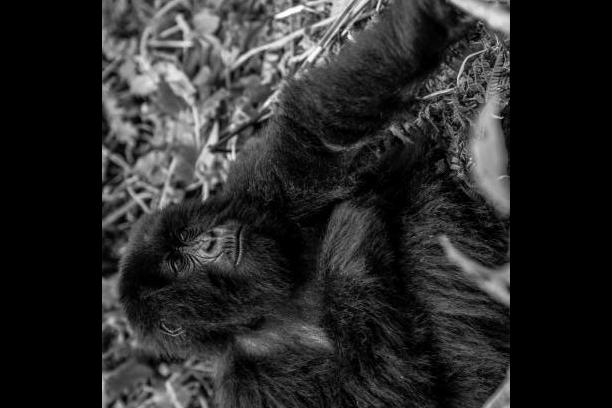goriile_montagne: (103, 0, 506, 408)
